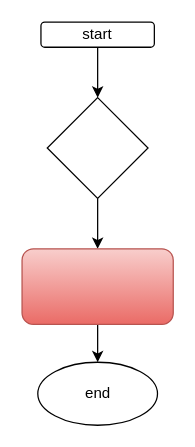
Some shapes in this 195 by 447 pixel diagram are drawn without their labels. The centre of each missing label's shape, as x and y in pixels:
"call setStockValue Penalty" belongs at point (97, 286).
"IF tower hp <= stock penalty hp" belongs at point (97, 147).
